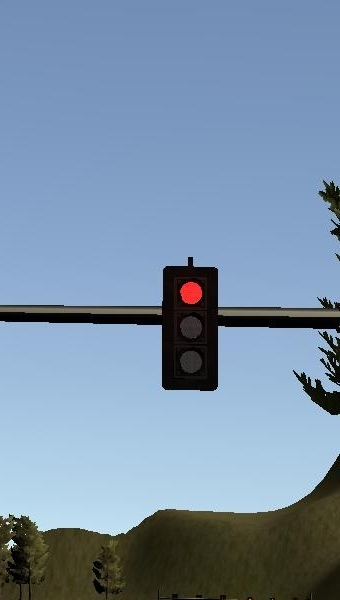Red: (161, 264, 219, 392)
